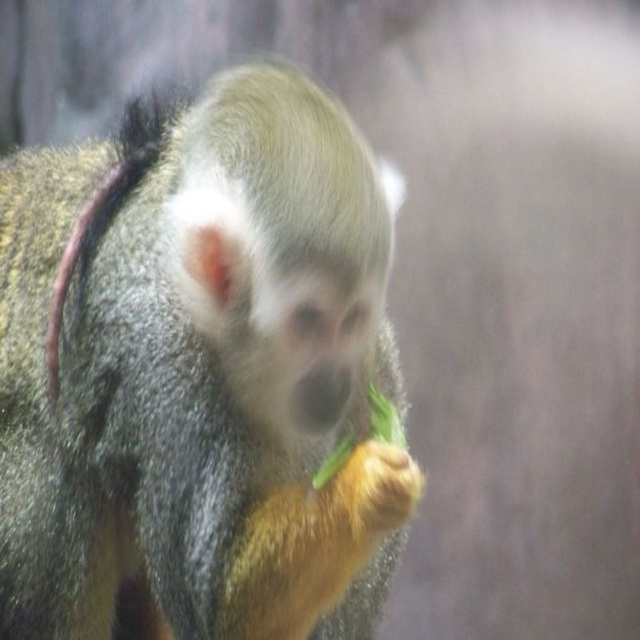Monkey: (0, 55, 425, 639)
